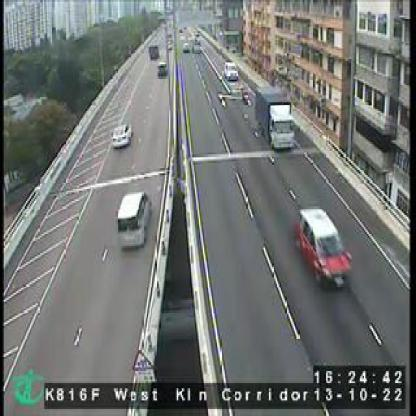Car: (294, 204, 353, 291), (116, 190, 153, 251), (112, 122, 134, 150), (224, 60, 238, 82), (157, 61, 168, 78), (148, 44, 158, 60)
Truck: (252, 87, 292, 149)
